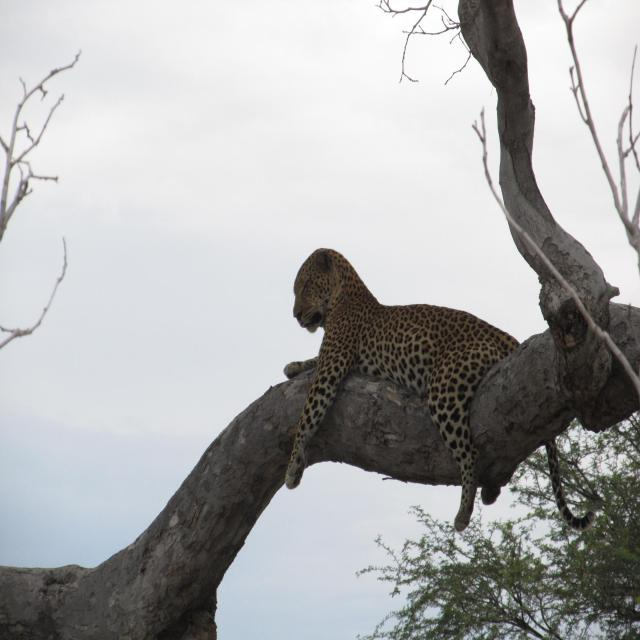Leopard: (279, 246, 591, 530)
